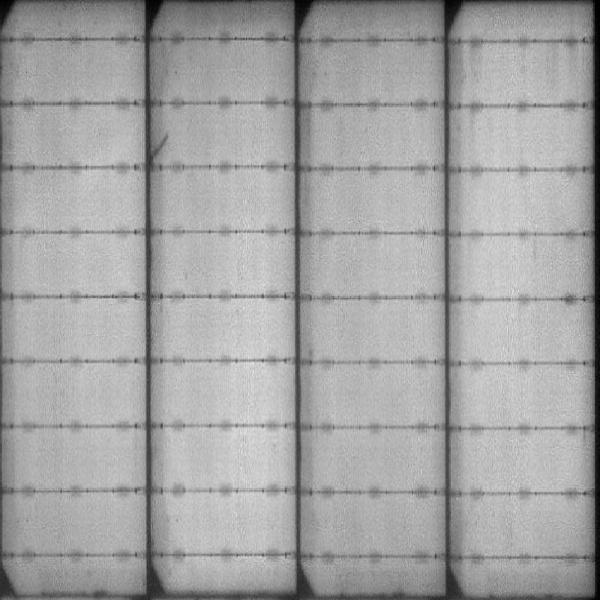scratch: (149, 132, 172, 162)
